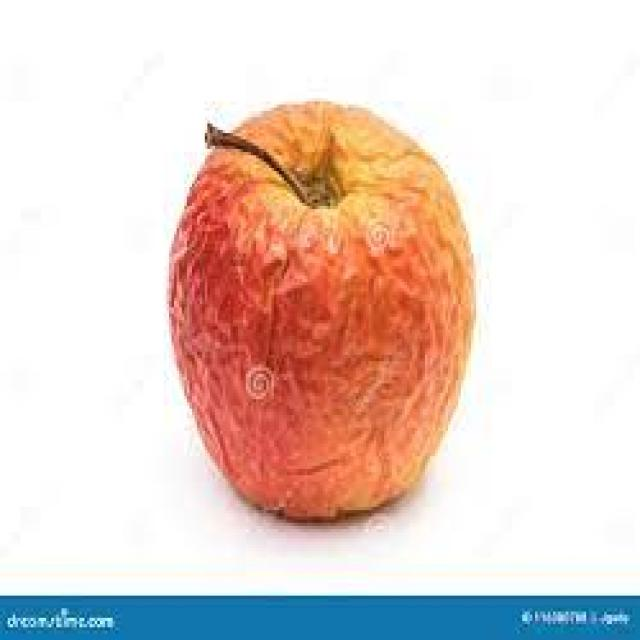overripe: (164, 99, 479, 527)
